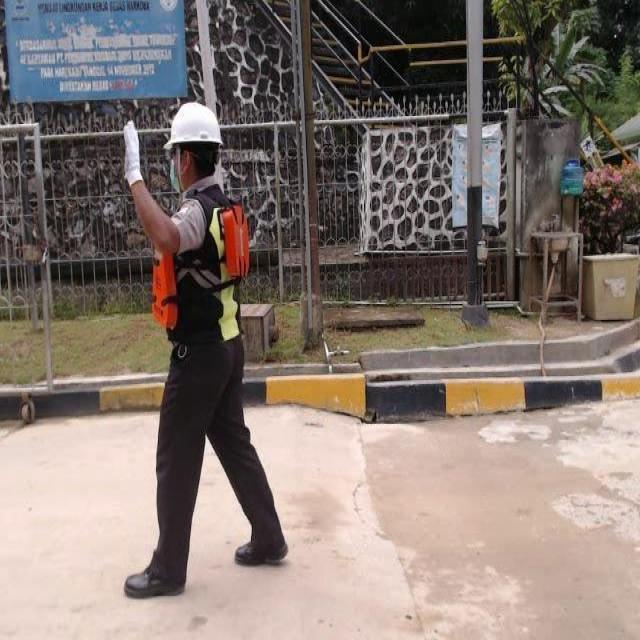Vest: (143, 208, 253, 331)
